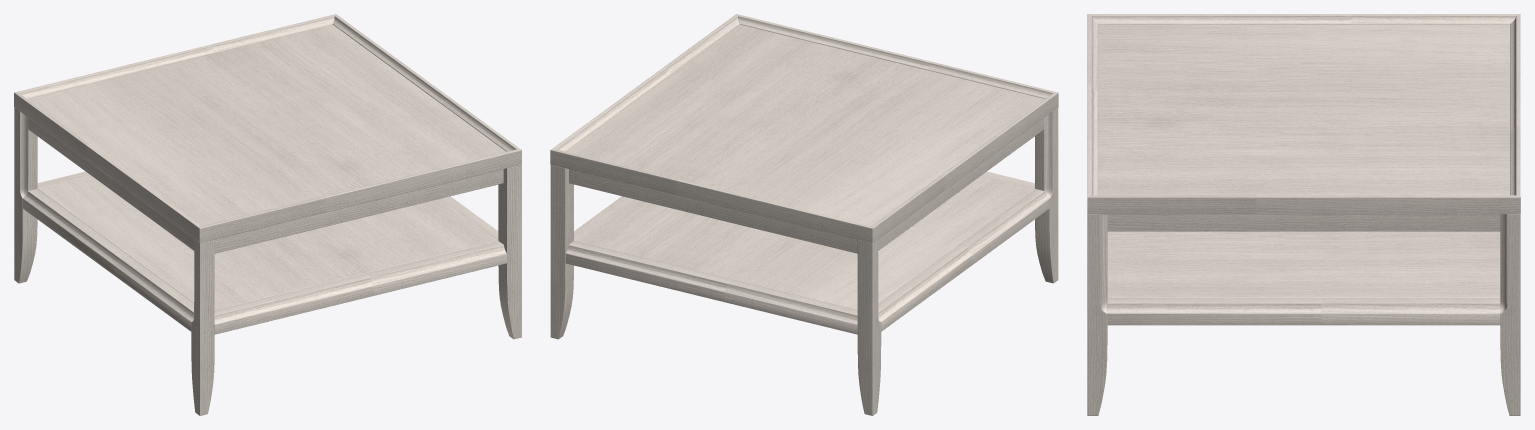
Rendered from coffee-table2.obj.
3 views of the same model, side by side, from view 1: azimuth 30°, elevation 25°; view 2: azimuth 150°, elevation 25°; view 3: azimuth 270°, elevation 25° (orthographic). The views are drawn at different scales.
Visible parts, largest first — view 1: coffee-table2; view 2: coffee-table2; view 3: coffee-table2.
Part boxes in pixels (box(x1,y1,x2,y2)): coffee-table2: box(14, 14, 521, 415); coffee-table2: box(550, 14, 1058, 415); coffee-table2: box(1087, 14, 1520, 415).
Size of the model in its own units: 1.23 by 0.6822 by 1.22.
